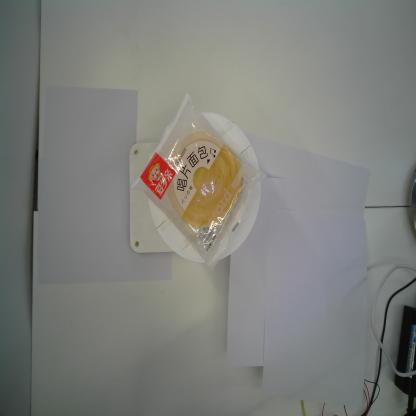Dessert: (130, 91, 267, 273)
